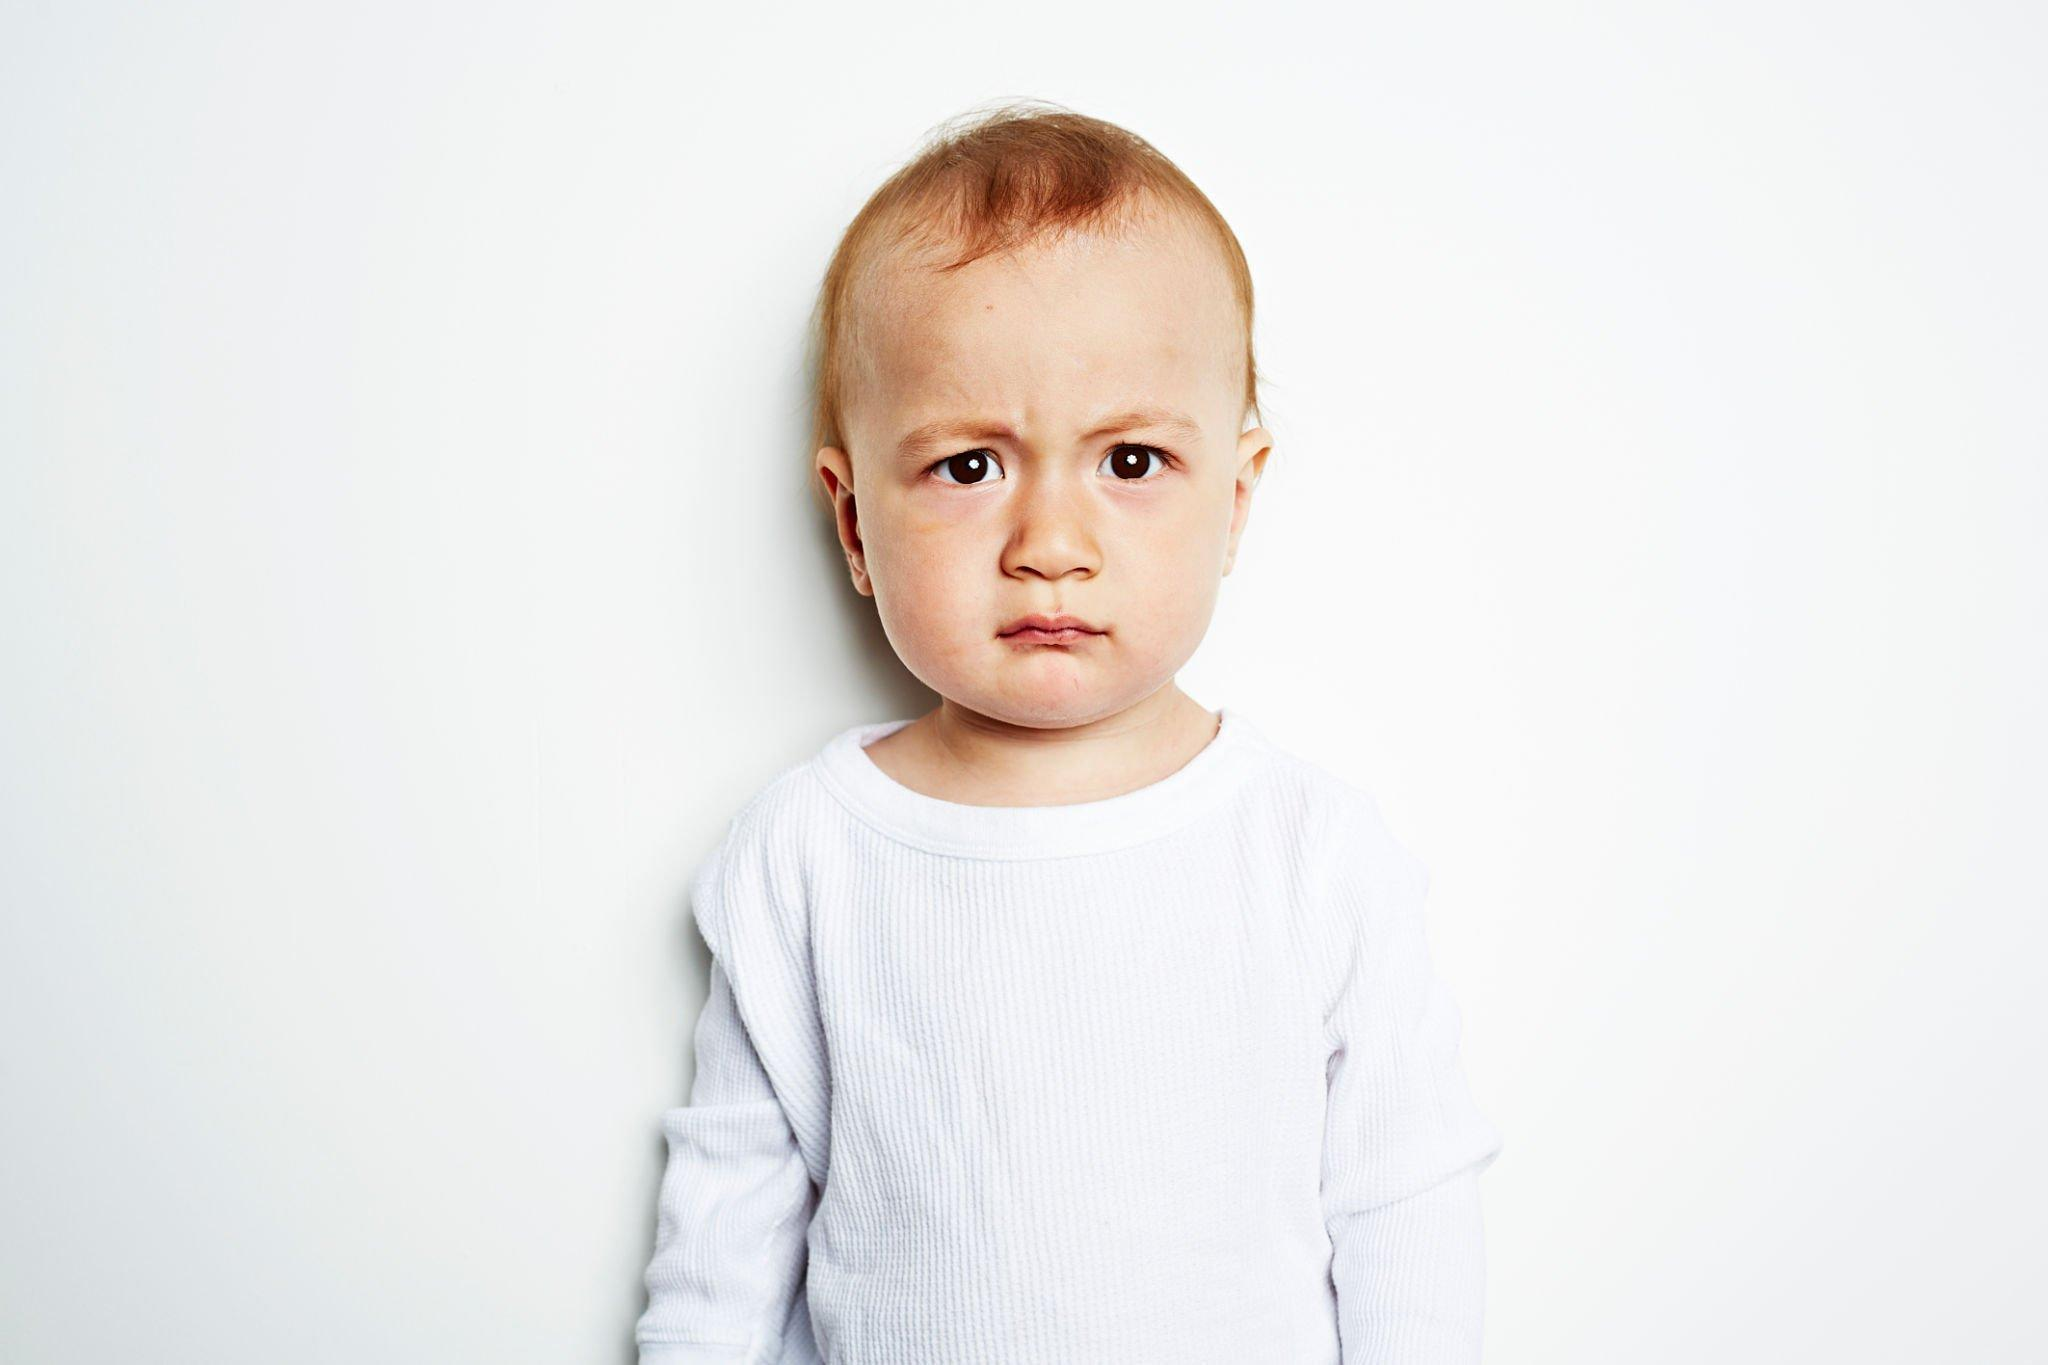Healthy: (792, 126, 1273, 769)
